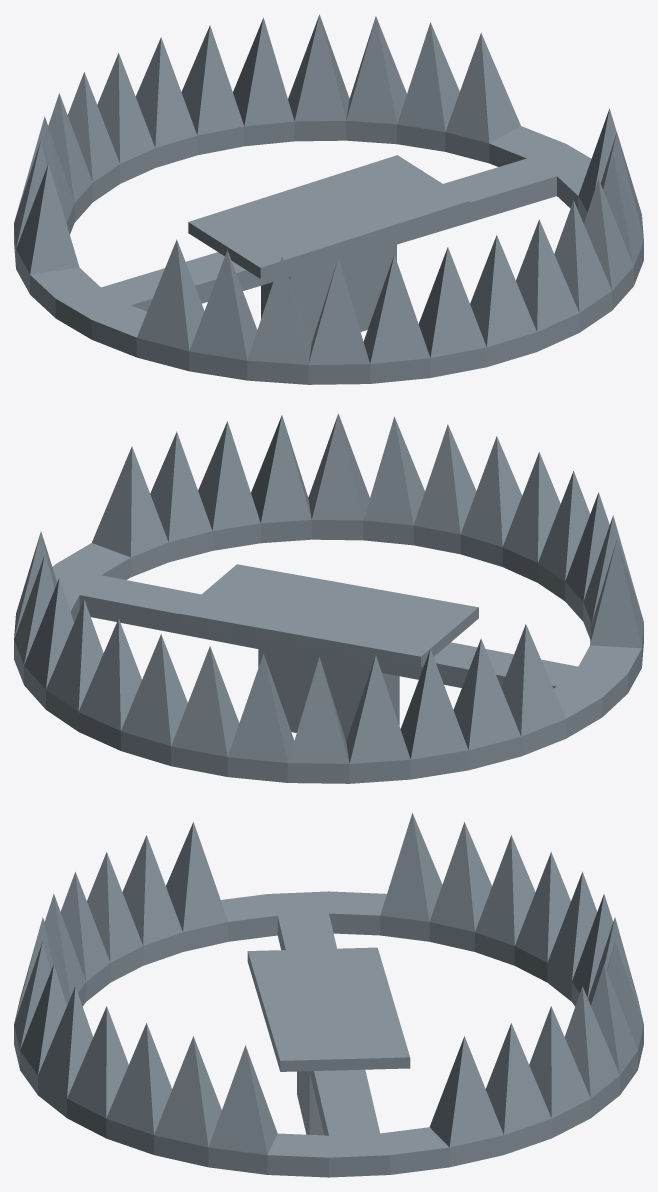
Rendered from BearTrap 1.fbx.
3 renders of one model, top to bottom at view 1: azimuth 30°, elevation 25°; view 2: azimuth 150°, elevation 25°; view 3: azimuth 270°, elevation 25°, orthographic.
Visible parts, largest first — view 1: Cylinder; view 2: Cylinder; view 3: Cylinder.
Boxes of the visible parts, bbox=[...] form: Cylinder: bbox=[14, 14, 643, 384]; Cylinder: bbox=[14, 413, 643, 783]; Cylinder: bbox=[14, 813, 643, 1177].
Bounding box in the file's own units: 200 × 67.29 × 200.
